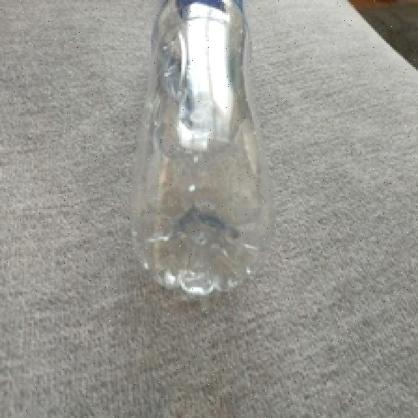bottle: (117, 0, 272, 311)
